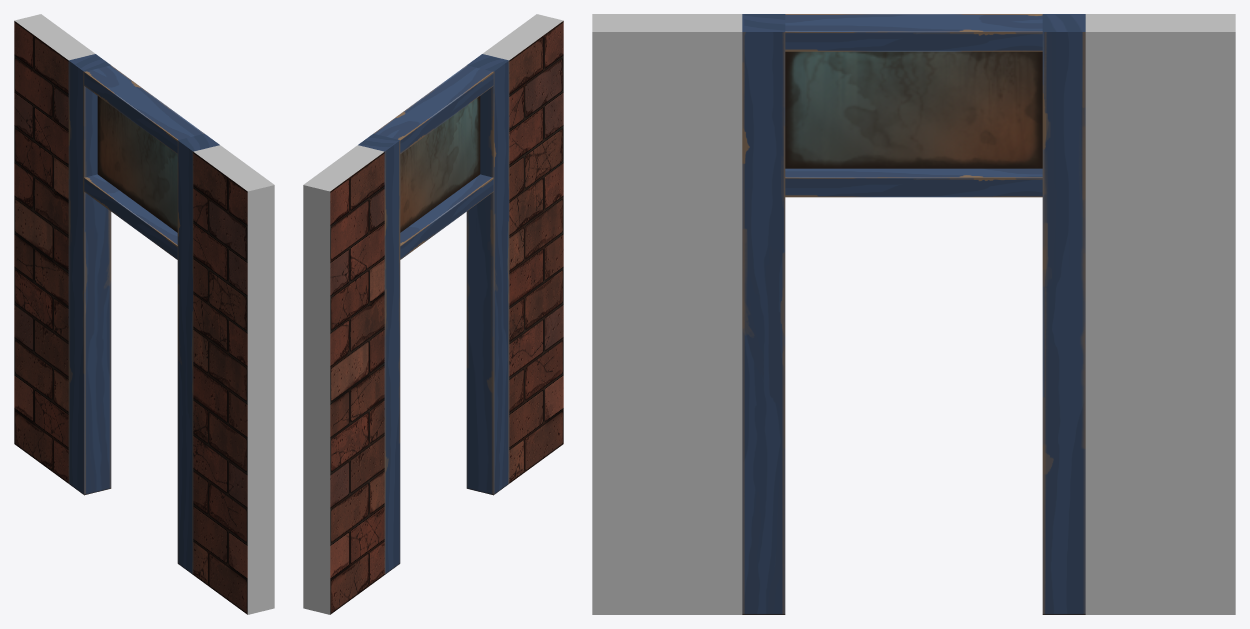
Rendered from storeFront05_entrance.FBX.
3 renders of one model, left to right at view 1: azimuth 30°, elevation 25°; view 2: azimuth 150°, elevation 25°; view 3: azimuth 270°, elevation 25°, orthographic. The views are drawn at different scales.
Parts seen in each view (by area): view 1: storeFront05_entrance, storeFront05_entrance_glass; view 2: storeFront05_entrance, storeFront05_entrance_glass; view 3: storeFront05_entrance, storeFront05_entrance_glass.
Boxes of the visible parts, left/top/right/bottom form: storeFront05_entrance: left=14, top=14, right=274, bottom=614; storeFront05_entrance_glass: left=97, top=96, right=177, bottom=232; storeFront05_entrance: left=303, top=14, right=563, bottom=614; storeFront05_entrance_glass: left=400, top=96, right=480, bottom=232; storeFront05_entrance: left=592, top=14, right=1235, bottom=614; storeFront05_entrance_glass: left=785, top=51, right=1042, bottom=168.
Bounding box in the file's own units: 20 × 300 × 300.
